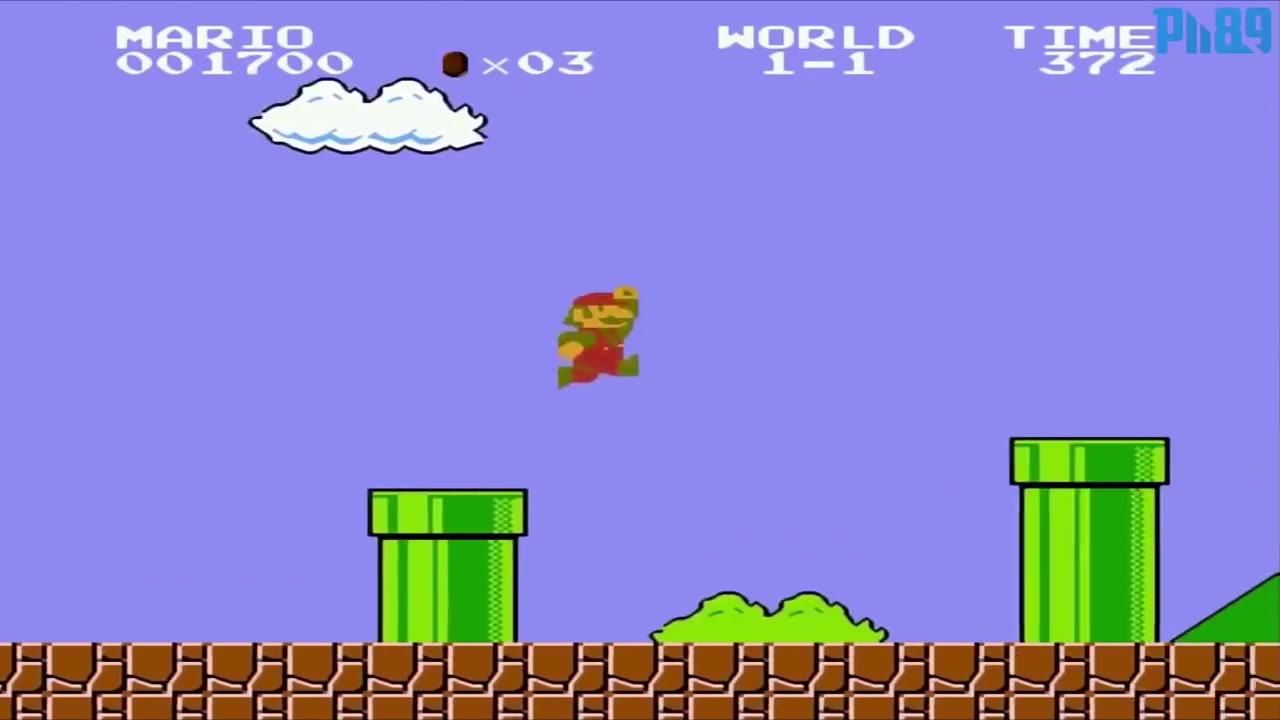mario: (548, 275, 655, 402)
